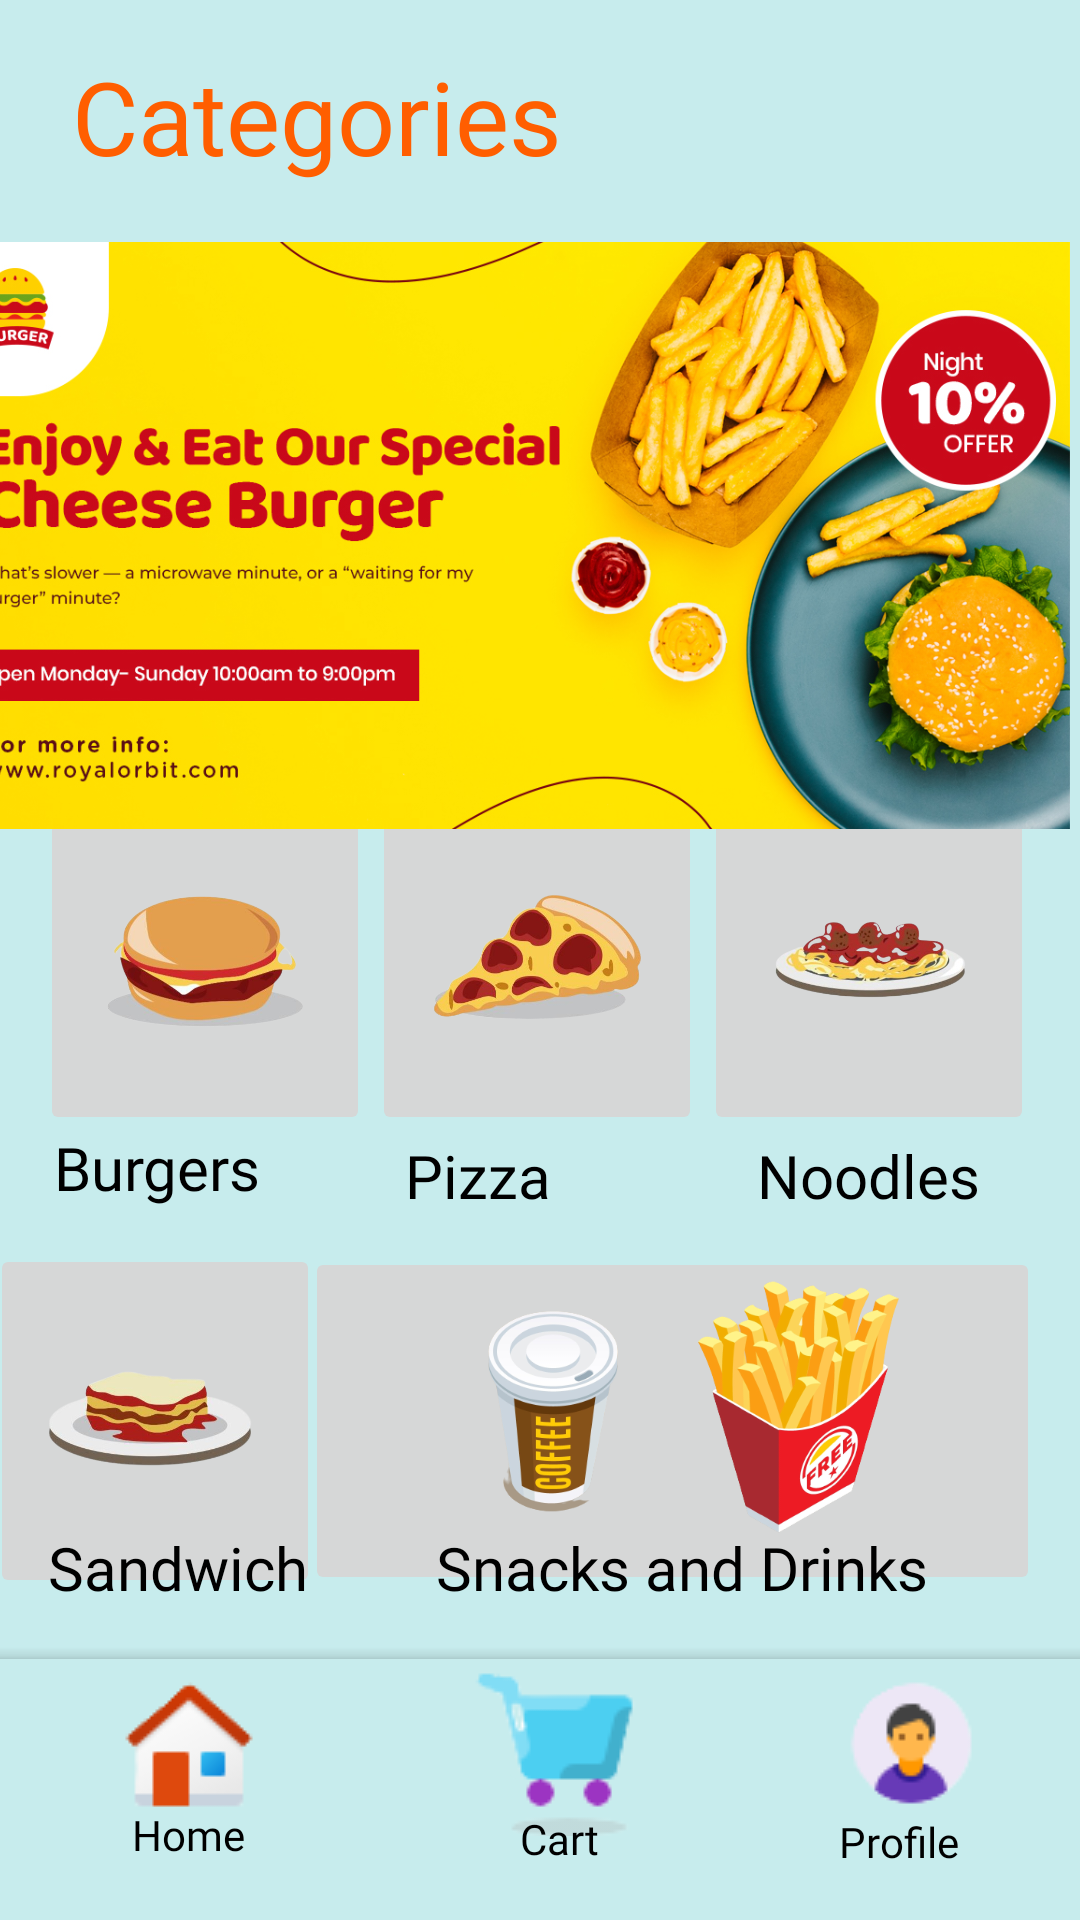

Screen size 1080 x 1920. Icon name, then its center in pixels as (x=x, y=y):
burgermenu: (x=205, y=961)
